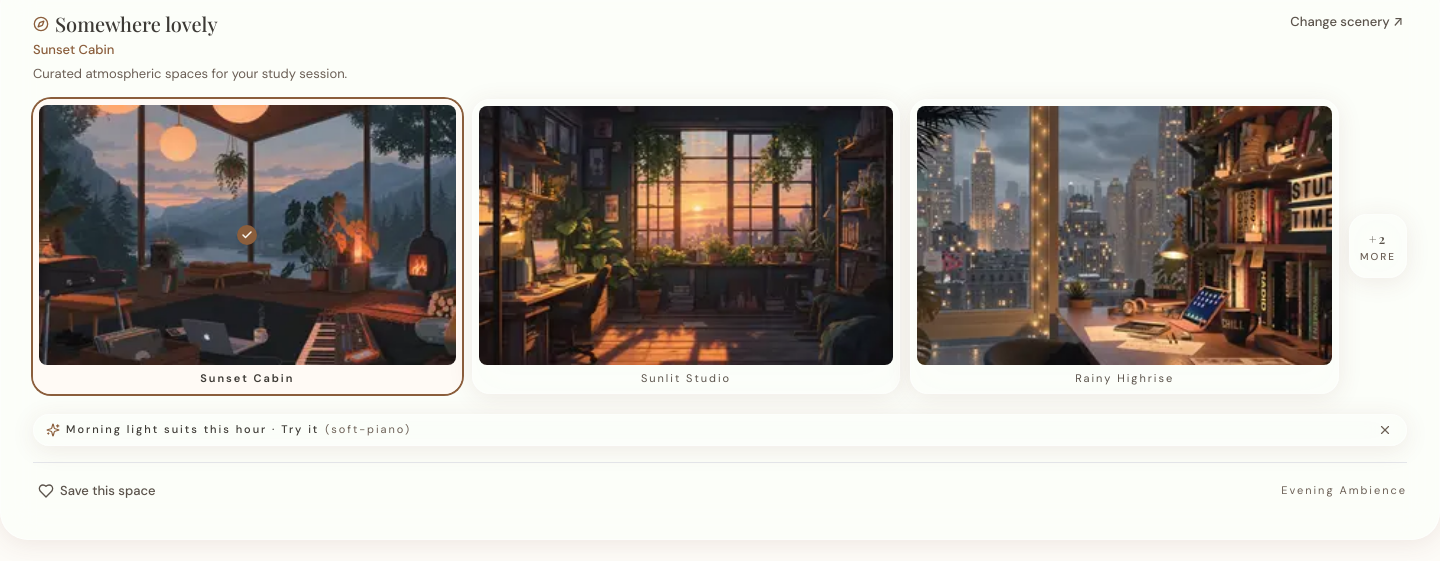
Test: SceneryCard - Scene Suggestion Chip › dismisses suggestion chip when dismiss button is clicked
Later steps or results of the test are not shown.
Expected: the element with test id "scene-suggestion-chip" is shown, [33,414,1407,446]
Click the button named "dismiss scene suggestion": (1385, 430) [1376,420,1394,438]
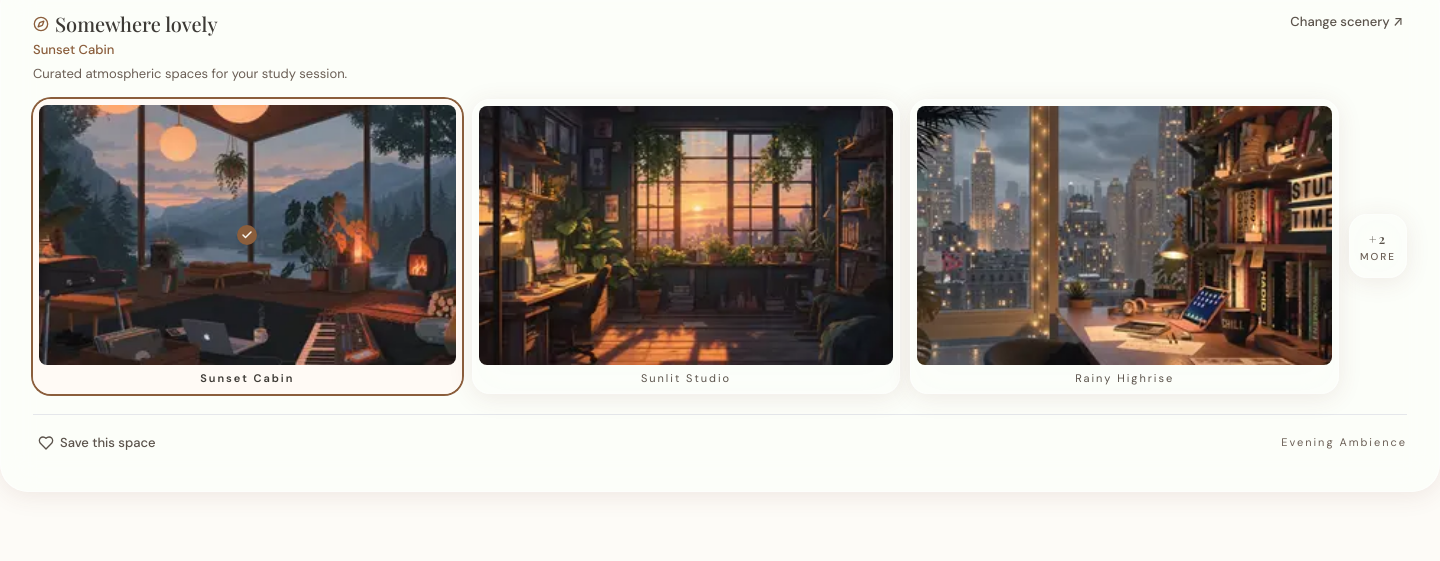
Now the element with test id "scene-suggestion-chip" is gone
